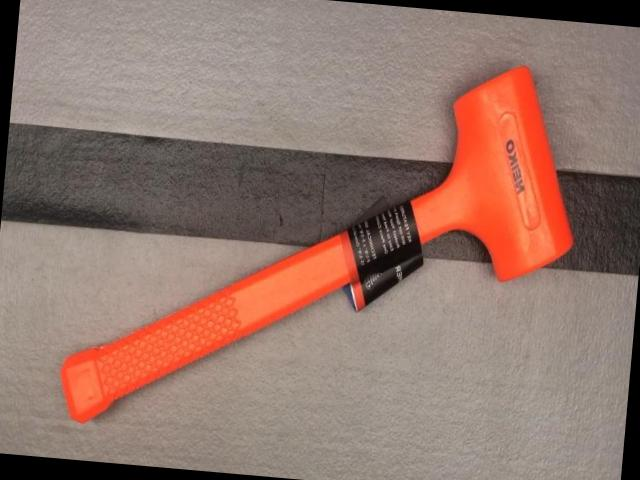hammer: (56, 27, 588, 462)
